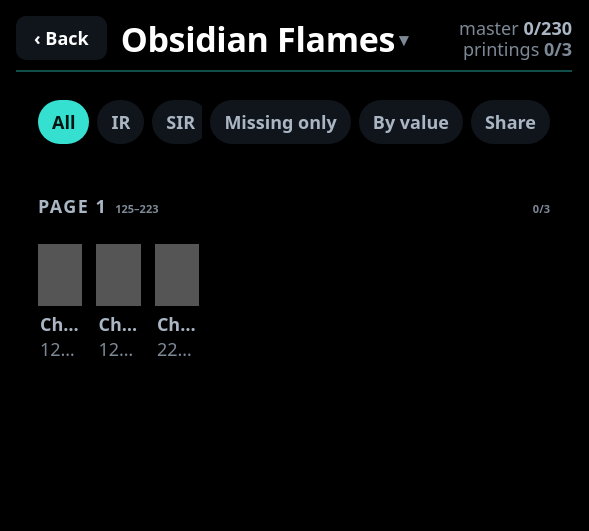
Test: WebSetCardsScreen sharing › distinguishes a rejected token from an unreachable server
The width and height of the screenshot is (589, 531).
Click the button "Share": {"x": 510, "y": 122} [471,100,550,144]
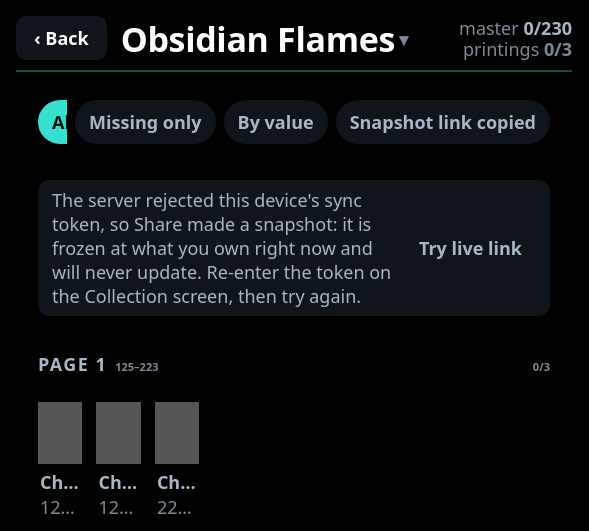
Expected: the message does not show "could not be reached", [38,180,550,316]
Result: the message shows "rejected this device's sync token" at [52,188,391,308]
